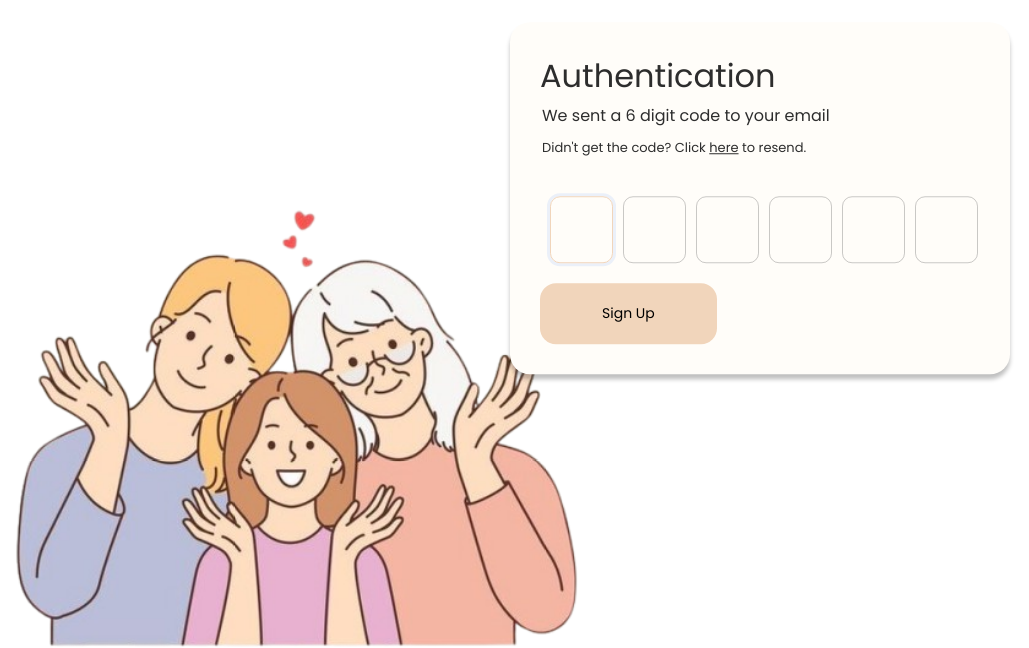
Test case: Authentication component › resends OTP when resend button is clicked
The image size is (1029, 648).
Click the button "here" at (724, 148), box [709,138,739,158]
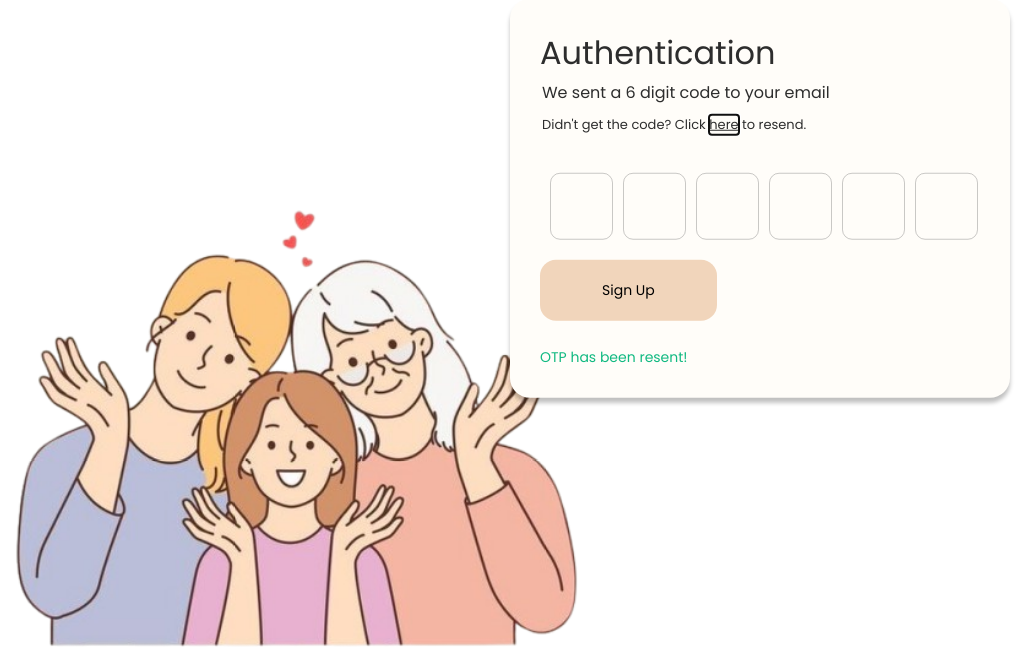
Expected: the text "OTP has been resent!" is shown, [540,346,688,367]
